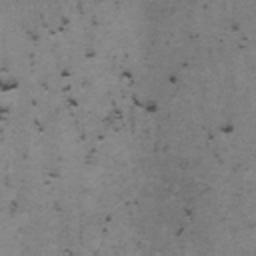Oxide scale of temperature system: (0, 17, 188, 187), (61, 197, 140, 256), (175, 206, 192, 238), (205, 123, 234, 141), (232, 23, 246, 50), (10, 201, 18, 216)
